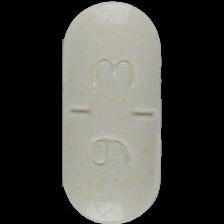55700-332: (0, 0, 224, 224)
